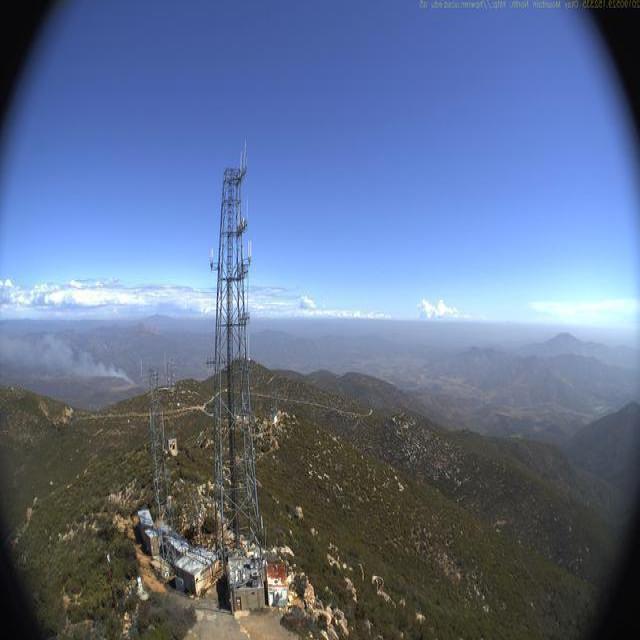Smoke: (3, 332, 136, 383)
